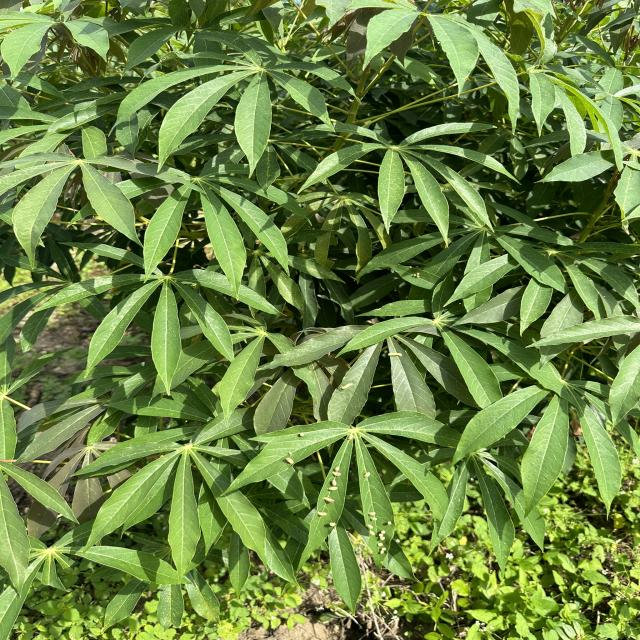Maleza: (441, 553, 605, 640), (554, 511, 640, 640)
Mosca: (366, 524, 389, 559), (280, 448, 299, 470), (325, 475, 343, 494), (363, 508, 379, 526), (387, 345, 404, 361), (290, 430, 308, 444), (338, 376, 354, 391), (318, 493, 339, 504), (408, 268, 424, 281), (329, 463, 342, 479), (361, 468, 374, 482), (315, 508, 329, 520), (328, 517, 337, 535), (381, 519, 393, 527)
